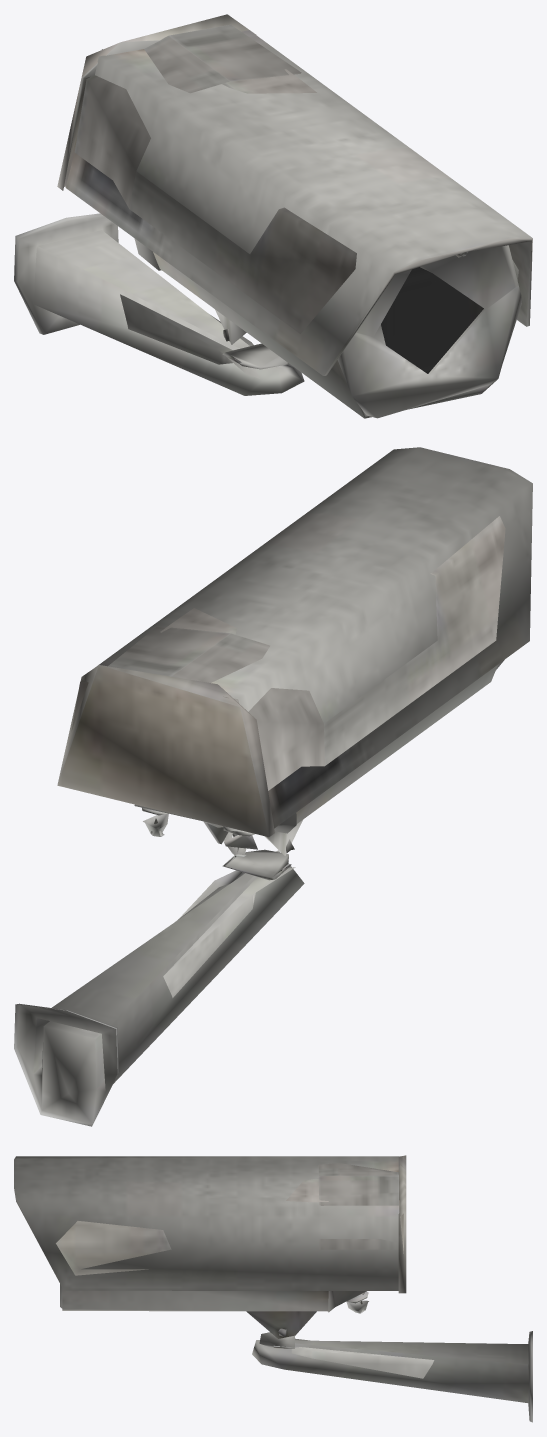
File: security_camera_01.glb
3 renders of one model, top to bottom at view 1: azimuth 30°, elevation 25°; view 2: azimuth 150°, elevation 25°; view 3: azimuth 270°, elevation 25°, orthographic. The views are drawn at different scales.
Visible parts, largest first — view 1: security_camera_01; view 2: security_camera_01; view 3: security_camera_01.
Part boxes in pixels (x1,y1,x2,y2): security_camera_01: [14, 14, 532, 418]; security_camera_01: [14, 447, 532, 1126]; security_camera_01: [14, 1155, 532, 1422].
Bounding box in the file's own units: 0.1696 × 0.2854 × 0.5536.
Materials: 2 (2 with a texture image).
